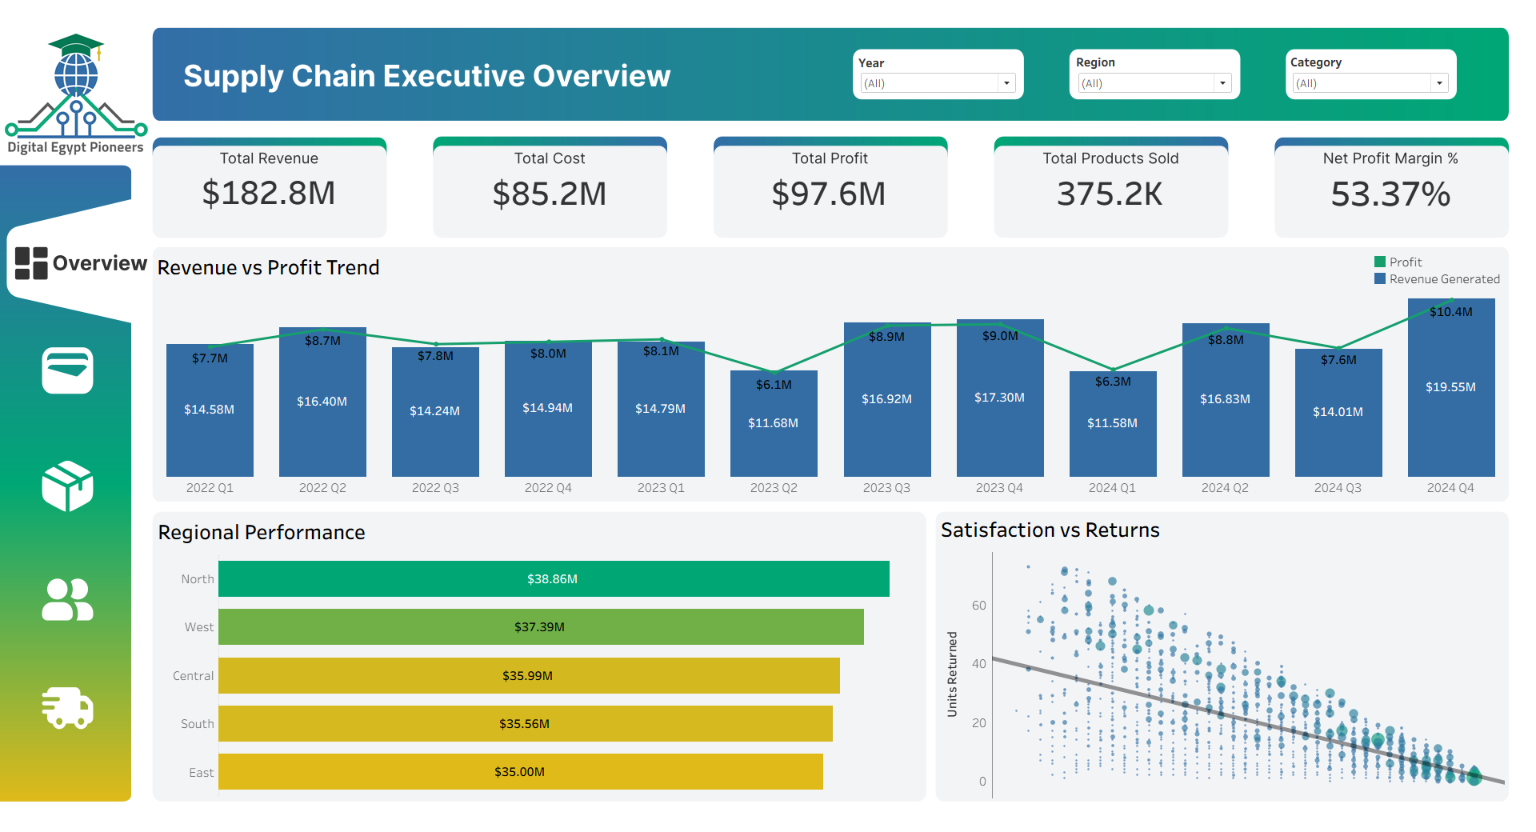

The dashboard page shown, as its layout file describes it:
{"tool":"tableau","page":{"name":"Executive Overview Dashboard","canvas":[1890,1042],"ordinal":1},"visuals":[{"type":"filter","title":"Regional Performance","param":"[federated.1a7ek0n1dui9pj16nsocf1yl686t].[none:region:nk]","box":[1326,63,206,59]},{"type":"filter","title":"Regional Performance","param":"[federated.1a7ek0n1dui9pj16nsocf1yl686t].[none:category:nk]","box":[1594,63,209,59]},{"type":"filter","title":"Regional Performance","param":"[federated.1a7ek0n1dui9pj16nsocf1yl686t].[yr:order_date:ok]","box":[1054,64,208,58]},{"type":"worksheet","title":"Total Revenue","mark":"Automatic","box":[176,182.9,292,113.3]},{"type":"worksheet","title":"Total Cost","mark":"Automatic","box":[527,182.9,291,116.3]},{"type":"worksheet","title":"Total Profit","mark":"Automatic","box":[876,182.9,292,115.3]},{"type":"worksheet","title":"Total Units Sold","mark":"Automatic","box":[1226,182.9,294,114.3]},{"type":"worksheet","title":"Profit Margin %","mark":"Automatic","box":[1578,183.9,292,113.3]},{"type":"legend","title":"Revenue vs Profit Trend","param":"[federated.1a7ek0n1dui9pj16nsocf1yl686t].[:Measure Names]","box":[1700,295.3,166,63.6]},{"type":"worksheet","title":"Revenue vs Profit Trend","mark":"Automatic","rows":["revenue_generated","profit"],"cols":["order_date"],"box":[177,312.2,1693,309.2]},{"type":"dashboard-object","box":[5,407,142,124]},{"type":"dashboard-object","box":[4,548.8,141,125.3]},{"type":"worksheet","title":"Satisfaction vs Returns","mark":"Circle","rows":["units_returned"],"cols":["customer_satisfaction_score"],"box":[1157,640.3,709,357.9]},{"type":"worksheet","title":"Regional Performance","mark":"Automatic","rows":["region"],"cols":["revenue_generated"],"box":[178,643.3,961,352]},{"type":"dashboard-object","box":[6,695,141,124.3]},{"type":"dashboard-object","box":[5,832.2,141,115.3]}]}

Visuals, with their boxes in screenshot pixels (x1, y1, x2, y2), scaled from the page's 1890x1042 canvas onto the 1536x832 screenshot:
"Regional Performance" filter: region(1078, 50, 1245, 97)
"Regional Performance" filter: region(1295, 50, 1465, 97)
"Regional Performance" filter: region(857, 51, 1026, 97)
"Total Revenue" worksheet: region(143, 146, 380, 237)
"Total Cost" worksheet: region(428, 146, 665, 239)
"Total Profit" worksheet: region(712, 146, 949, 238)
"Total Units Sold" worksheet: region(996, 146, 1235, 237)
"Profit Margin %" worksheet: region(1282, 147, 1520, 237)
"Revenue vs Profit Trend" legend: region(1382, 236, 1516, 287)
"Revenue vs Profit Trend" worksheet: region(144, 249, 1520, 496)
dashboard-object: region(4, 325, 119, 424)
dashboard-object: region(3, 438, 118, 538)
"Satisfaction vs Returns" worksheet (Circle marks): region(940, 511, 1516, 797)
"Regional Performance" worksheet: region(145, 514, 926, 795)
dashboard-object: region(5, 555, 119, 654)
dashboard-object: region(4, 664, 119, 757)
